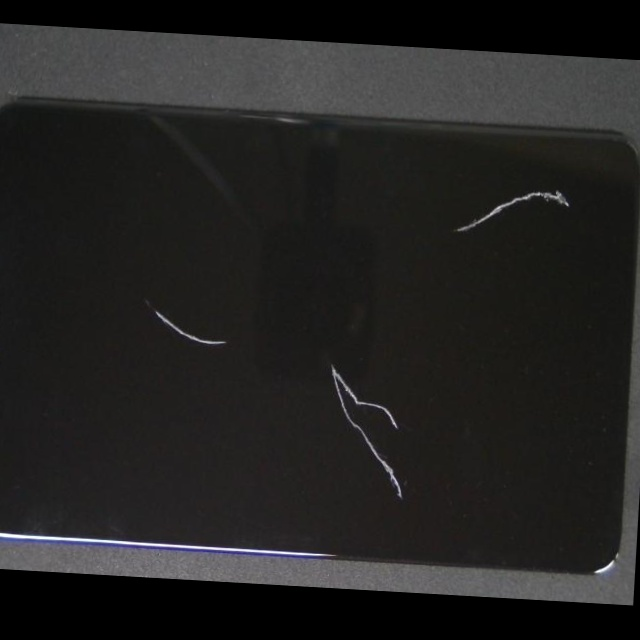scratch: (164, 160, 510, 521), (320, 81, 640, 258), (146, 202, 339, 472)
